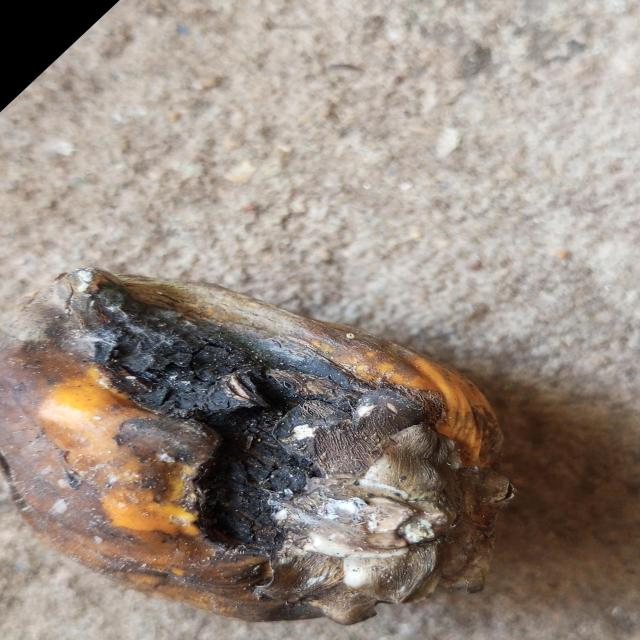damaged: (0, 270, 514, 626)
